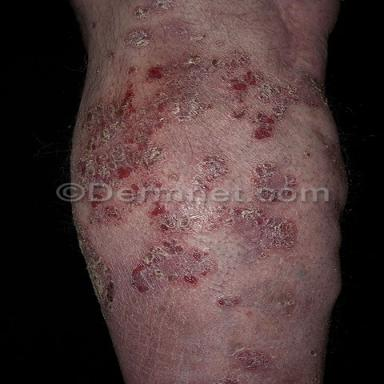Psoriasis: (77, 19, 326, 182), (131, 203, 297, 293), (74, 218, 115, 316), (90, 199, 143, 228), (252, 161, 296, 188), (192, 155, 229, 186), (228, 348, 271, 370), (131, 0, 173, 20), (218, 297, 242, 306)
